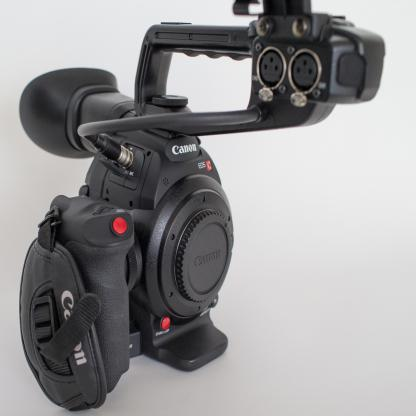Camera: (20, 3, 387, 415)
